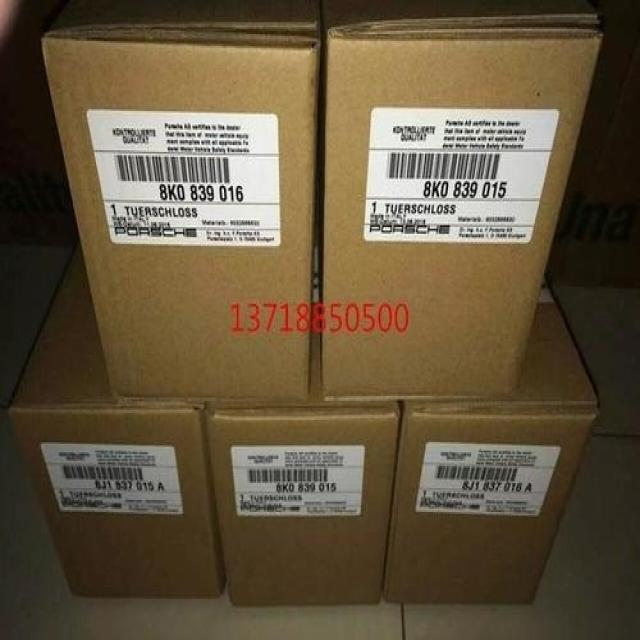box: (319, 4, 604, 399), (40, 6, 322, 399), (7, 231, 227, 596), (383, 277, 598, 607), (205, 303, 403, 605)
